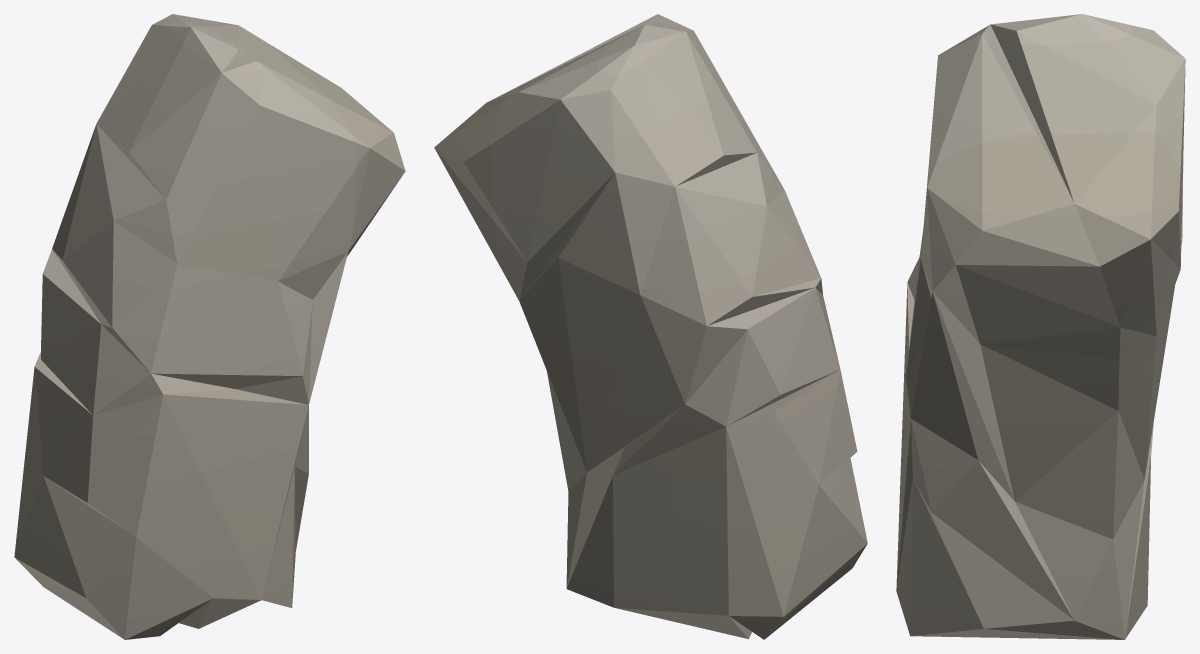
File: 3D_PortalRock1.fbx
3 renders of one model, left to right at view 1: azimuth 30°, elevation 25°; view 2: azimuth 150°, elevation 25°; view 3: azimuth 270°, elevation 25°, orthographic. The views are drawn at different scales.
Parts seen in each view (by area): view 1: PortalRock1; view 2: PortalRock1; view 3: PortalRock1.
Part boxes in pixels (x1=…): PortalRock1: x1=14, y1=14, x2=405, y2=639; PortalRock1: x1=434, y1=14, x2=867, y2=639; PortalRock1: x1=896, y1=14, x2=1185, y2=639.
Bounding box in the file's own units: 33.92 × 52.39 × 22.24.
